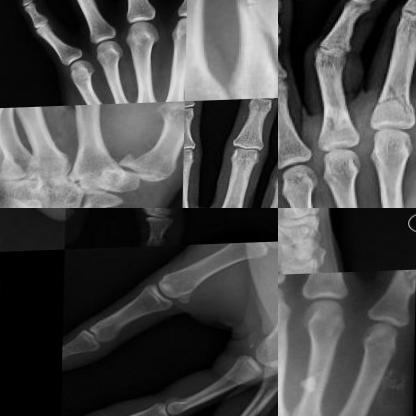fracture: (372, 77, 415, 119), (120, 149, 167, 183)
